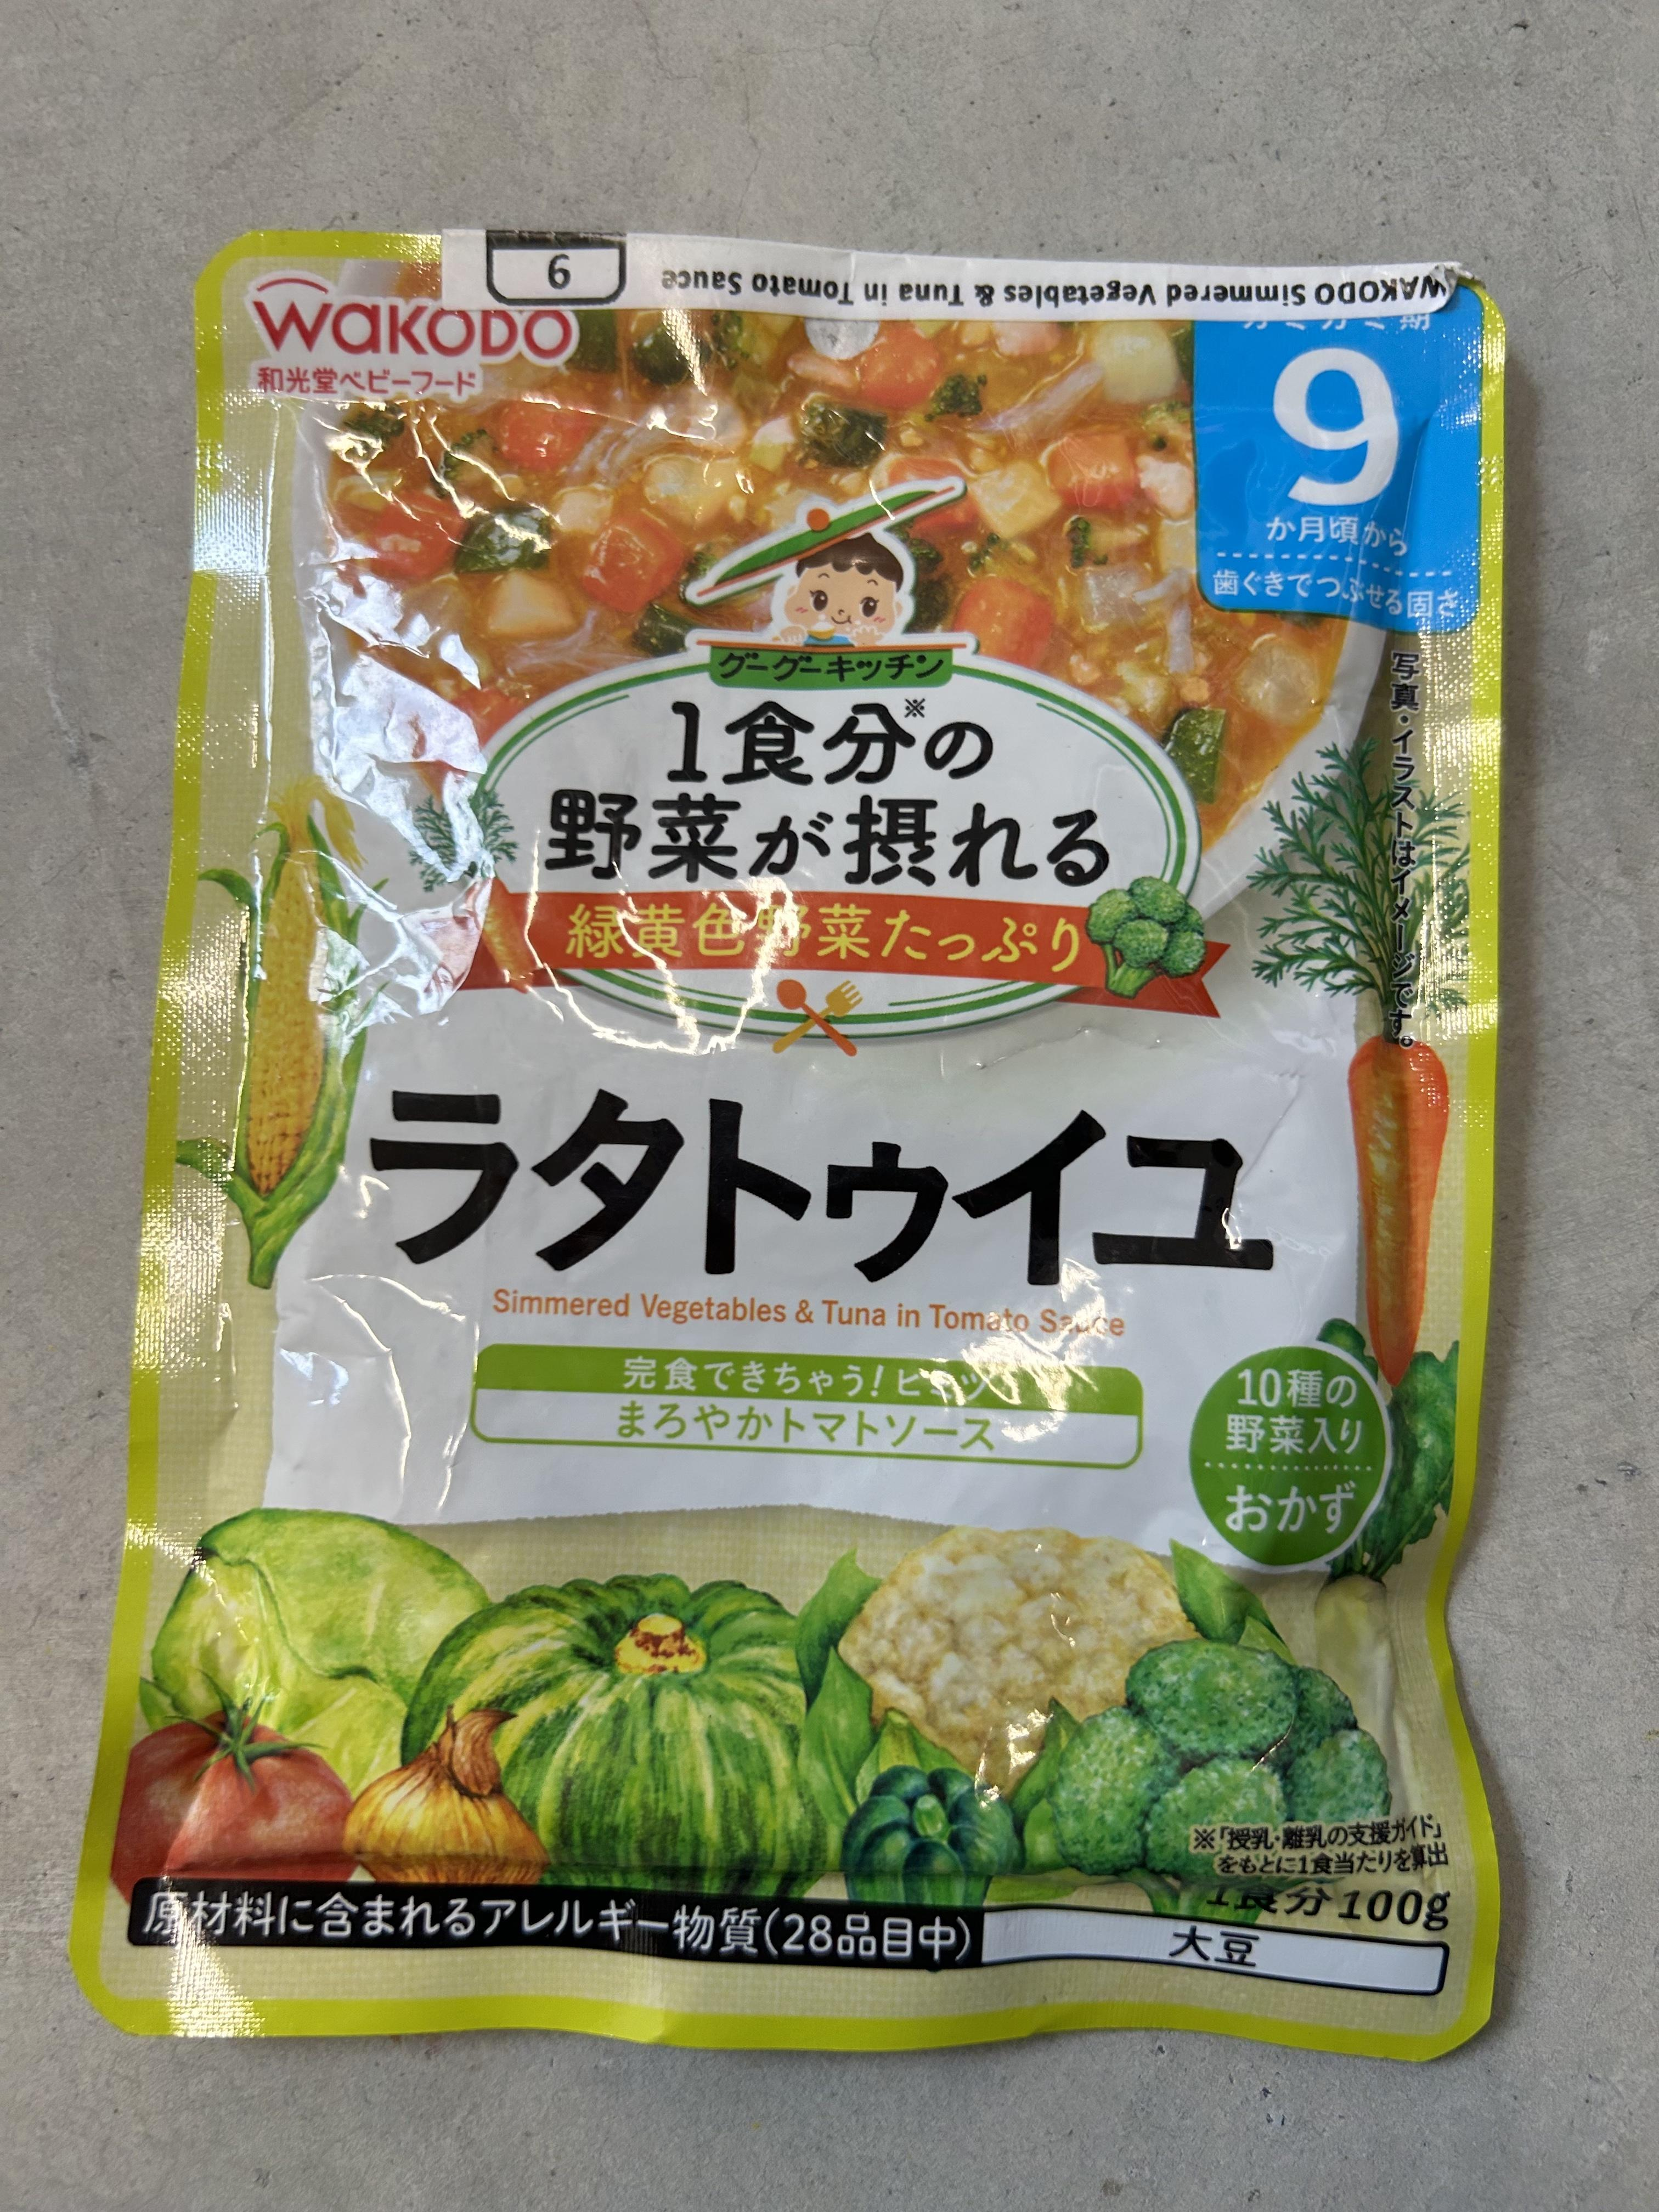object_name: (214, 258, 1466, 2024)
